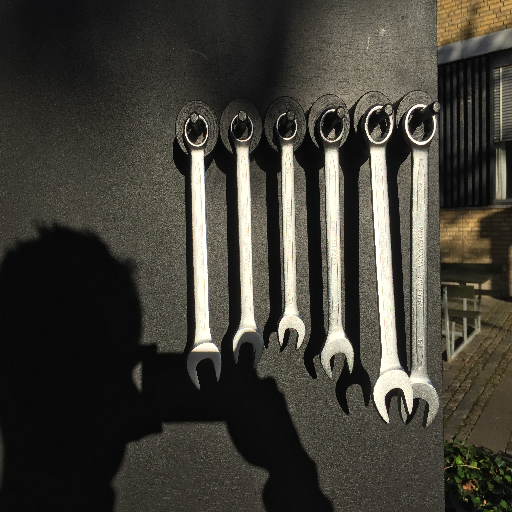bottom: (397, 370, 440, 429), (373, 369, 414, 423), (185, 342, 223, 389), (231, 327, 267, 371), (320, 334, 354, 377), (276, 313, 305, 352)
top: (401, 103, 439, 151), (361, 104, 396, 148), (316, 107, 345, 147), (182, 113, 211, 149), (229, 113, 256, 146), (275, 111, 299, 144)
